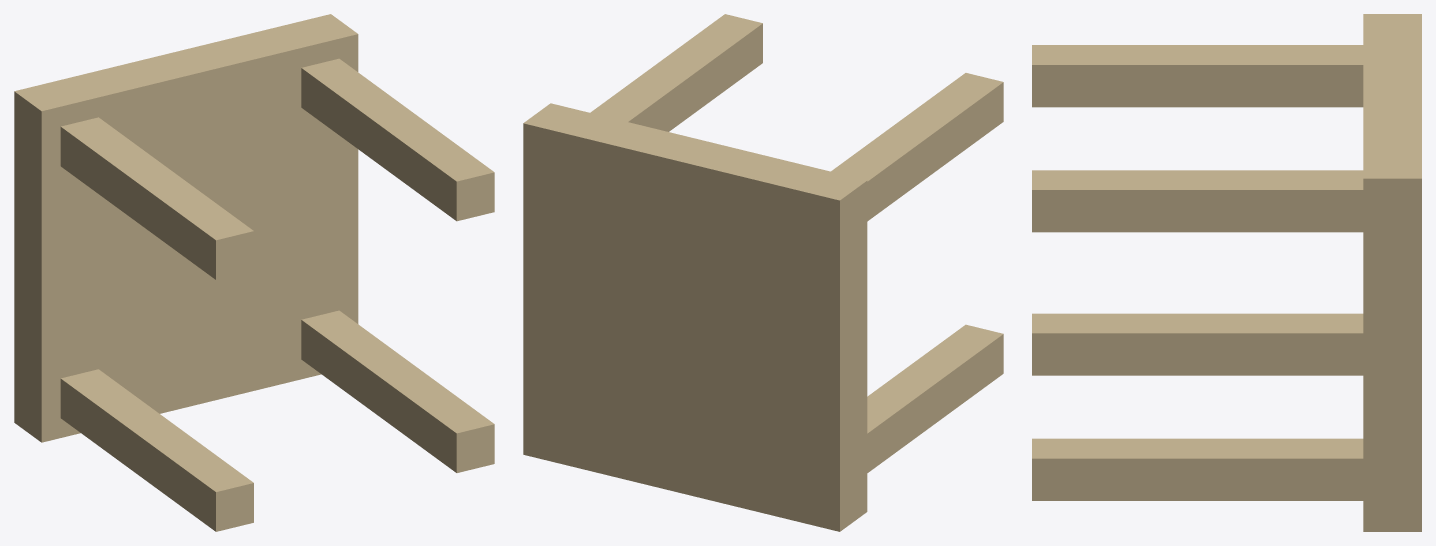
The model's file is oak_table_held.gltf.
3 views of the same model, side by side, from view 1: azimuth 30°, elevation 25°; view 2: azimuth 150°, elevation 25°; view 3: azimuth 270°, elevation 25° (orthographic). The views are drawn at different scales.
Visible parts, largest first — view 1: building_oak_table_held; view 2: building_oak_table_held; view 3: building_oak_table_held.
Part boxes in pixels (<box>): building_oak_table_held: <box>14,14,494,531</box>; building_oak_table_held: <box>523,14,1003,531</box>; building_oak_table_held: <box>1032,14,1421,531</box>.
Bounding box in the file's own units: 0.16 × 0.16 × 0.16.
